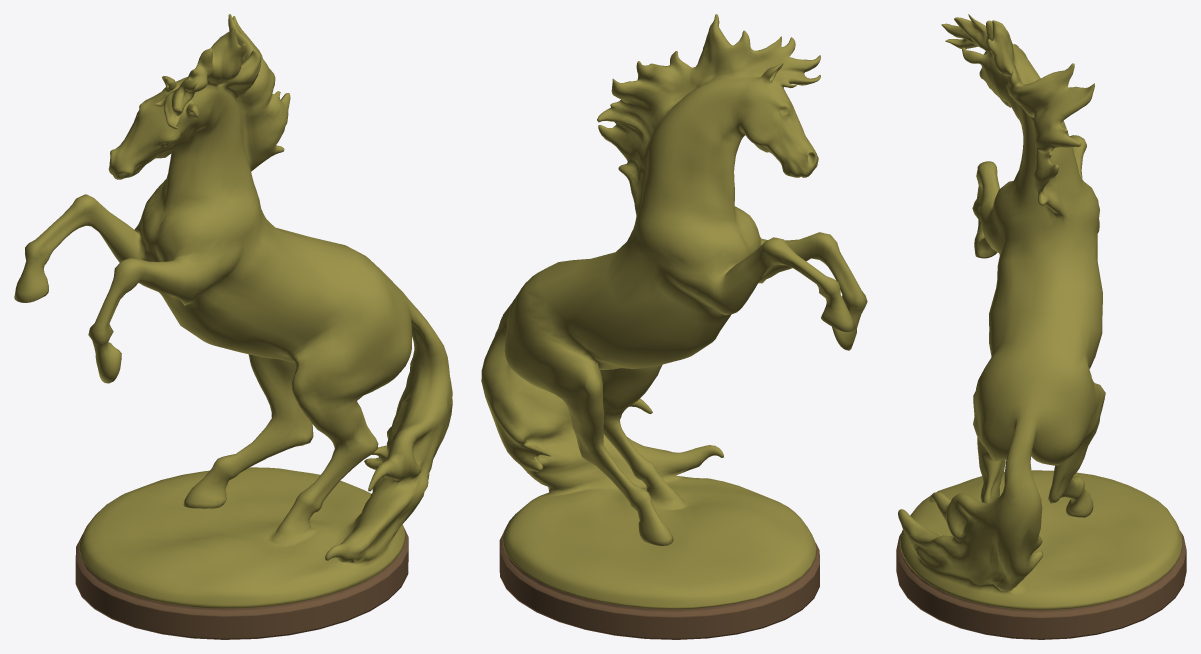
3 views of the same model, side by side, from view 1: azimuth 30°, elevation 25°; view 2: azimuth 150°, elevation 25°; view 3: azimuth 270°, elevation 25° (orthographic). The views are drawn at different scales.
Visible parts, largest first — view 1: horse_statue_01; view 2: horse_statue_01; view 3: horse_statue_01.
Part boxes in pixels (box(x1,y1,x2,y2)): horse_statue_01: box(14, 14, 452, 639); horse_statue_01: box(481, 14, 867, 639); horse_statue_01: box(896, 14, 1186, 639).
Size of the model in its own units: 2.03 by 2.73 by 1.34.
